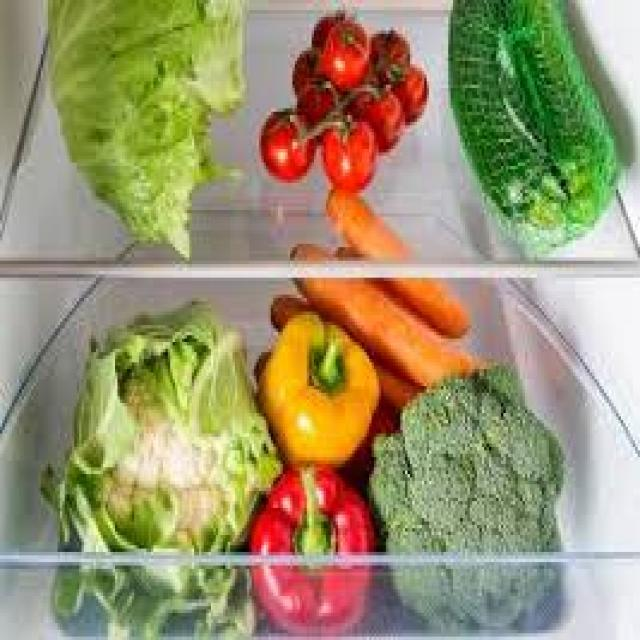organic waste: (36, 298, 278, 637), (364, 362, 564, 623), (46, 0, 242, 254), (285, 237, 470, 383), (446, 0, 561, 234), (506, 0, 614, 234), (323, 186, 468, 332), (247, 461, 369, 633), (254, 305, 374, 467), (269, 292, 417, 406), (249, 342, 391, 430), (333, 237, 415, 305), (256, 105, 314, 179), (321, 112, 374, 186), (350, 81, 405, 146), (319, 14, 369, 84), (379, 54, 424, 112), (297, 71, 343, 122), (364, 27, 408, 78), (285, 40, 319, 84), (309, 3, 345, 38)
